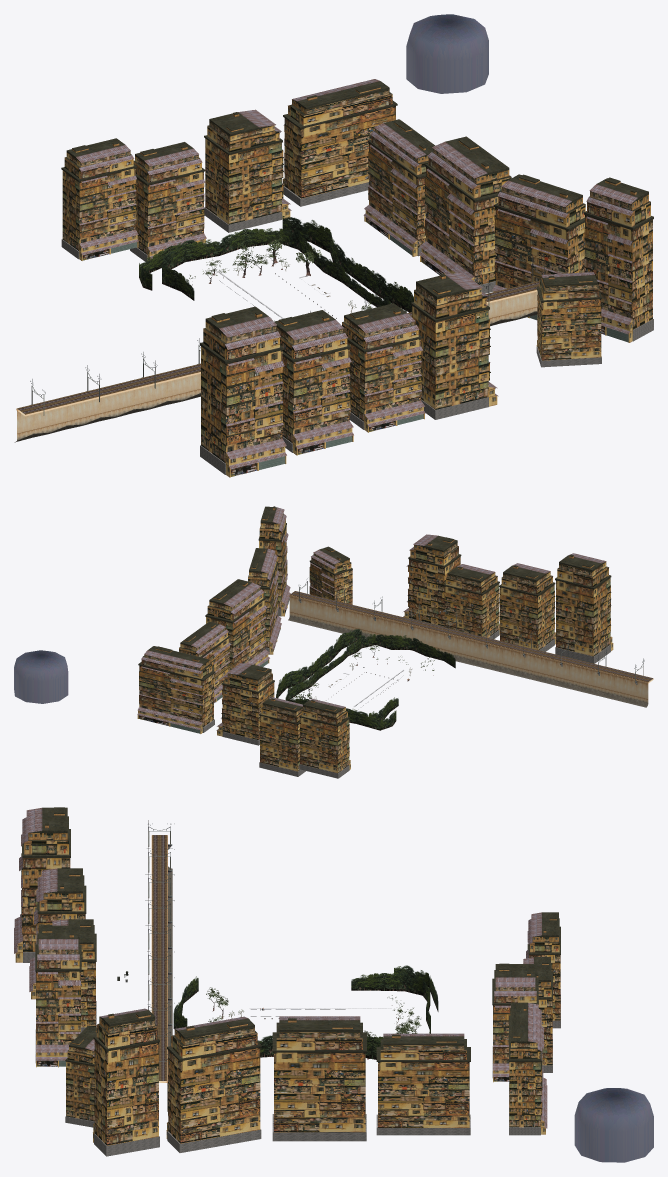
3 renders of one model, top to bottom at view 1: azimuth 30°, elevation 25°; view 2: azimuth 150°, elevation 25°; view 3: azimuth 270°, elevation 25°, orthographic. The views are drawn at different scales.
Parts seen in each view (by area): view 1: IStatic_2116630, IStatic_2116628, IStatic_2116639, IStatic_2133577, IStatic_2133575, IStatic_2116629, IStatic_2133576, IStatic_2116618, IStatic_2133578, IStatic_2116620, IStatic_2116619, IStatic_2116640 (+11 smaller); view 2: IStatic_2116628, IStatic_2116630, IStatic_2116629, IStatic_2116639, IStatic_2133577, IStatic_2133578, IStatic_2116620, IStatic_2116618, IStatic_2116619, IStatic_2216724, IStatic_2117381, IStatic_2133581 (+20 smaller); view 3: IStatic_2116639, IStatic_2133576, IStatic_2116640, IStatic_2133575, IStatic_2133577, IStatic_2216724, IStatic_2116628, IStatic_2116630, IStatic_2116618, IStatic_2116629, IStatic_2133581, IStatic_2116620 (+4 smaller).
Part boxes in pixels (left/top/right/bottom): IStatic_2116630: left=200, top=306, right=286, bottom=477; IStatic_2116628: left=282, top=79, right=397, bottom=206; IStatic_2116639: left=418, top=136, right=511, bottom=293; IStatic_2133577: left=411, top=272, right=498, bottom=419; IStatic_2133575: left=584, top=177, right=653, bottom=342; IStatic_2116629: left=274, top=310, right=353, bottom=455; IStatic_2133576: left=492, top=174, right=585, bottom=320; IStatic_2116618: left=204, top=109, right=291, bottom=232; IStatic_2133578: left=342, top=303, right=425, bottom=432; IStatic_2116620: left=61, top=138, right=138, bottom=260; IStatic_2116619: left=130, top=142, right=206, bottom=261; IStatic_2116640: left=363, top=119, right=434, bottom=256; IStatic_2116628: left=137, top=646, right=215, bottom=733; IStatic_2116630: left=555, top=553, right=613, bottom=663; IStatic_2116629: left=499, top=563, right=555, bottom=651; IStatic_2116639: left=205, top=579, right=269, bottom=670; IStatic_2133577: left=403, top=534, right=461, bottom=627; IStatic_2133578: left=443, top=564, right=499, bottom=639; IStatic_2116620: left=299, top=699, right=350, bottom=778; IStatic_2116618: left=216, top=663, right=274, bottom=745; IStatic_2116619: left=259, top=697, right=305, bottom=776; IStatic_2216724: left=14, top=650, right=68, bottom=703; IStatic_2117381: left=285, top=634, right=455, bottom=722; IStatic_2133581: left=309, top=546, right=352, bottom=604; IStatic_2116639: left=272, top=1016, right=366, bottom=1141; IStatic_2133576: left=166, top=1016, right=261, bottom=1152; IStatic_2116640: left=376, top=1033, right=470, bottom=1135; IStatic_2133575: left=93, top=1008, right=159, bottom=1156; IStatic_2133577: left=35, top=925, right=81, bottom=1067; IStatic_2216724: left=574, top=1088, right=653, bottom=1162; IStatic_2116628: left=509, top=1002, right=547, bottom=1135; IStatic_2116630: left=14, top=807, right=70, bottom=962; IStatic_2116618: left=492, top=963, right=538, bottom=1082; IStatic_2116629: left=29, top=868, right=86, bottom=999; IStatic_2133581: left=65, top=1026, right=96, bottom=1127; IStatic_2116620: left=526, top=912, right=560, bottom=1028.
Size of the model in its own units: 21240 by 4852 by 17745.
Materials: 63 (63 with a texture image).
